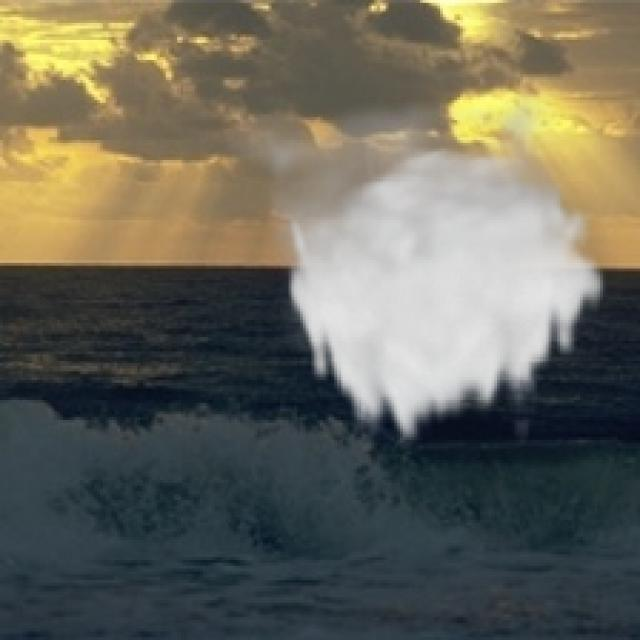smoke: (217, 74, 609, 452)
